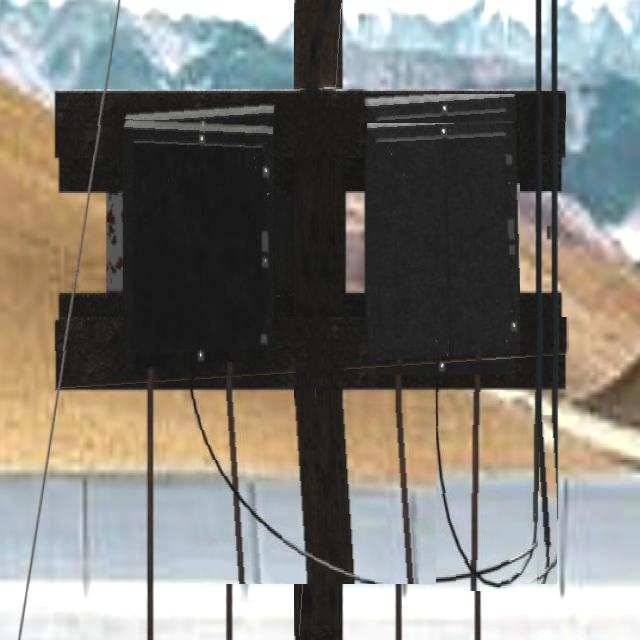crossarm: (52, 317, 569, 384), (57, 94, 566, 152)
pole: (294, 3, 342, 636)
transformer: (367, 123, 520, 360), (122, 119, 272, 349)
wire: (190, 392, 419, 584), (436, 392, 539, 591), (484, 543, 557, 584)
